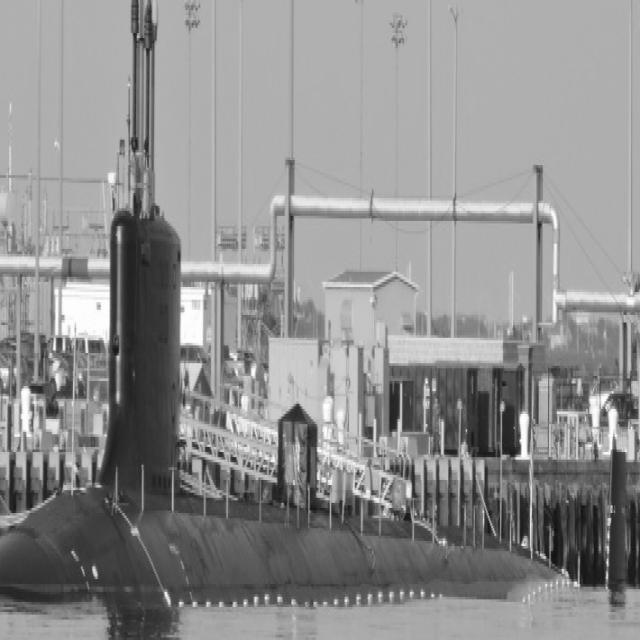submarine: (1, 1, 625, 598)
